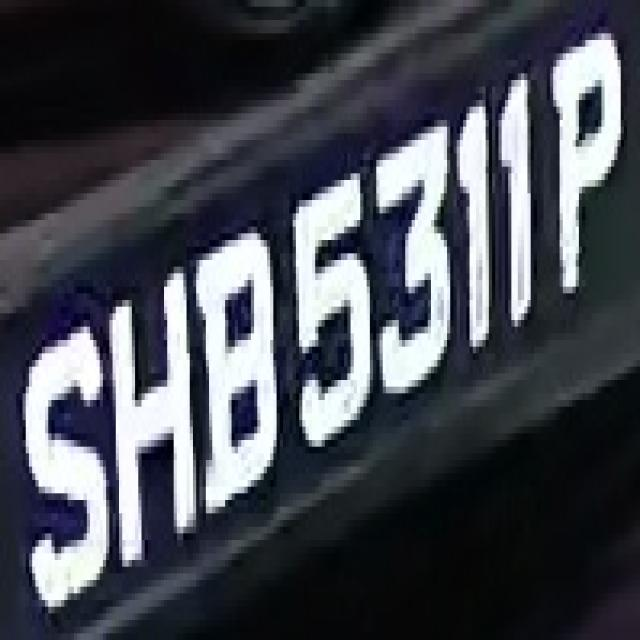1: (447, 87, 495, 400), (489, 80, 543, 340)
3: (370, 120, 450, 420)
5: (286, 153, 380, 467)
B: (187, 207, 286, 520)
H: (103, 266, 209, 586)
P: (537, 26, 630, 326)
S: (19, 313, 119, 627)
